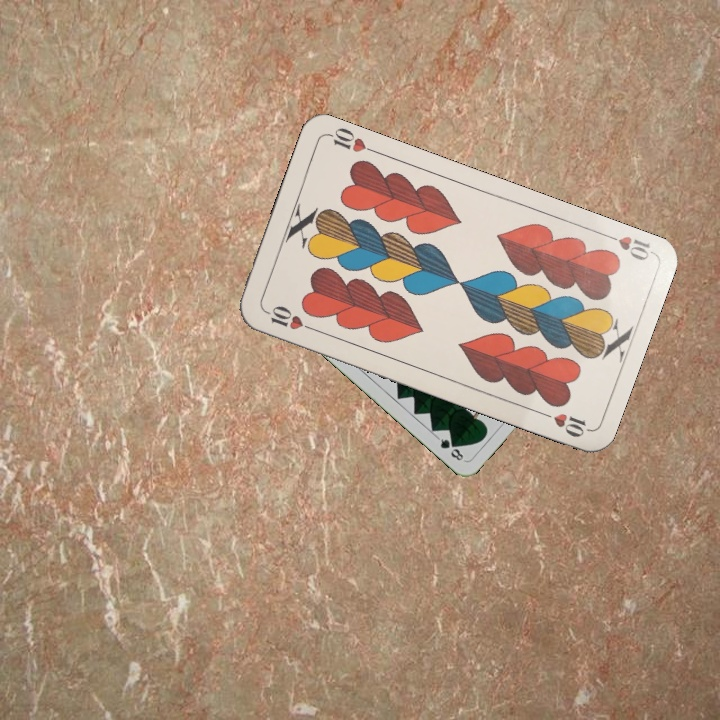H10: (598, 229, 655, 263), (260, 301, 318, 334)
